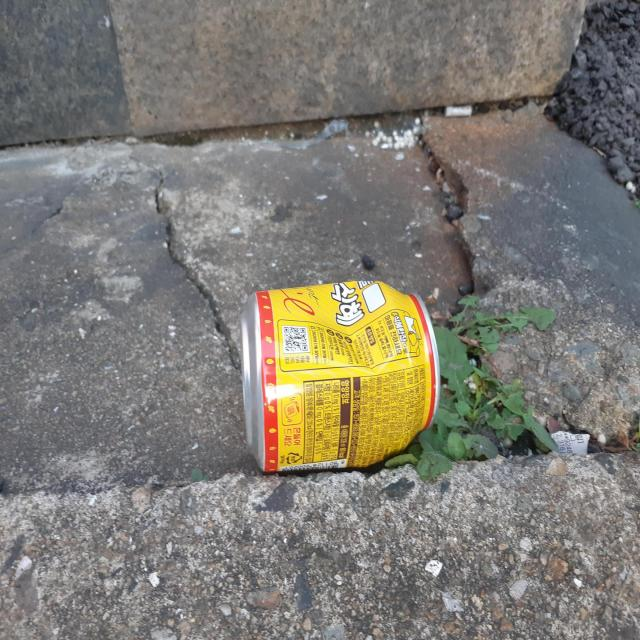can: (241, 280, 440, 472)
